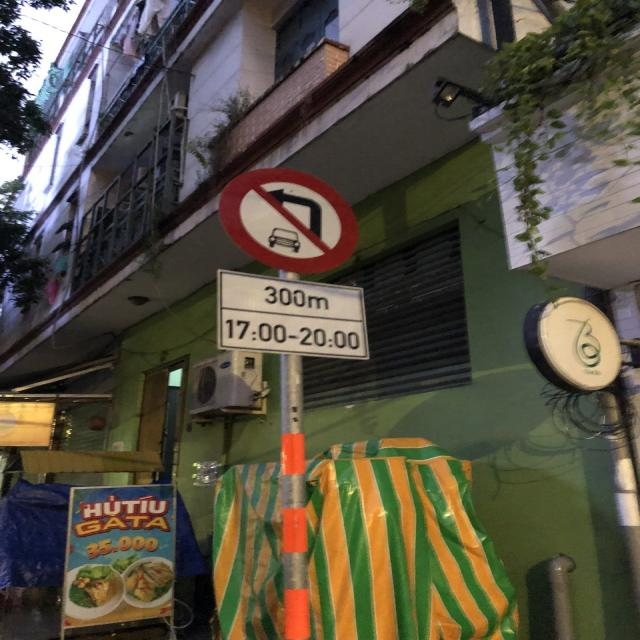Bien bao cam xe o to re trai: (205, 161, 378, 278)
